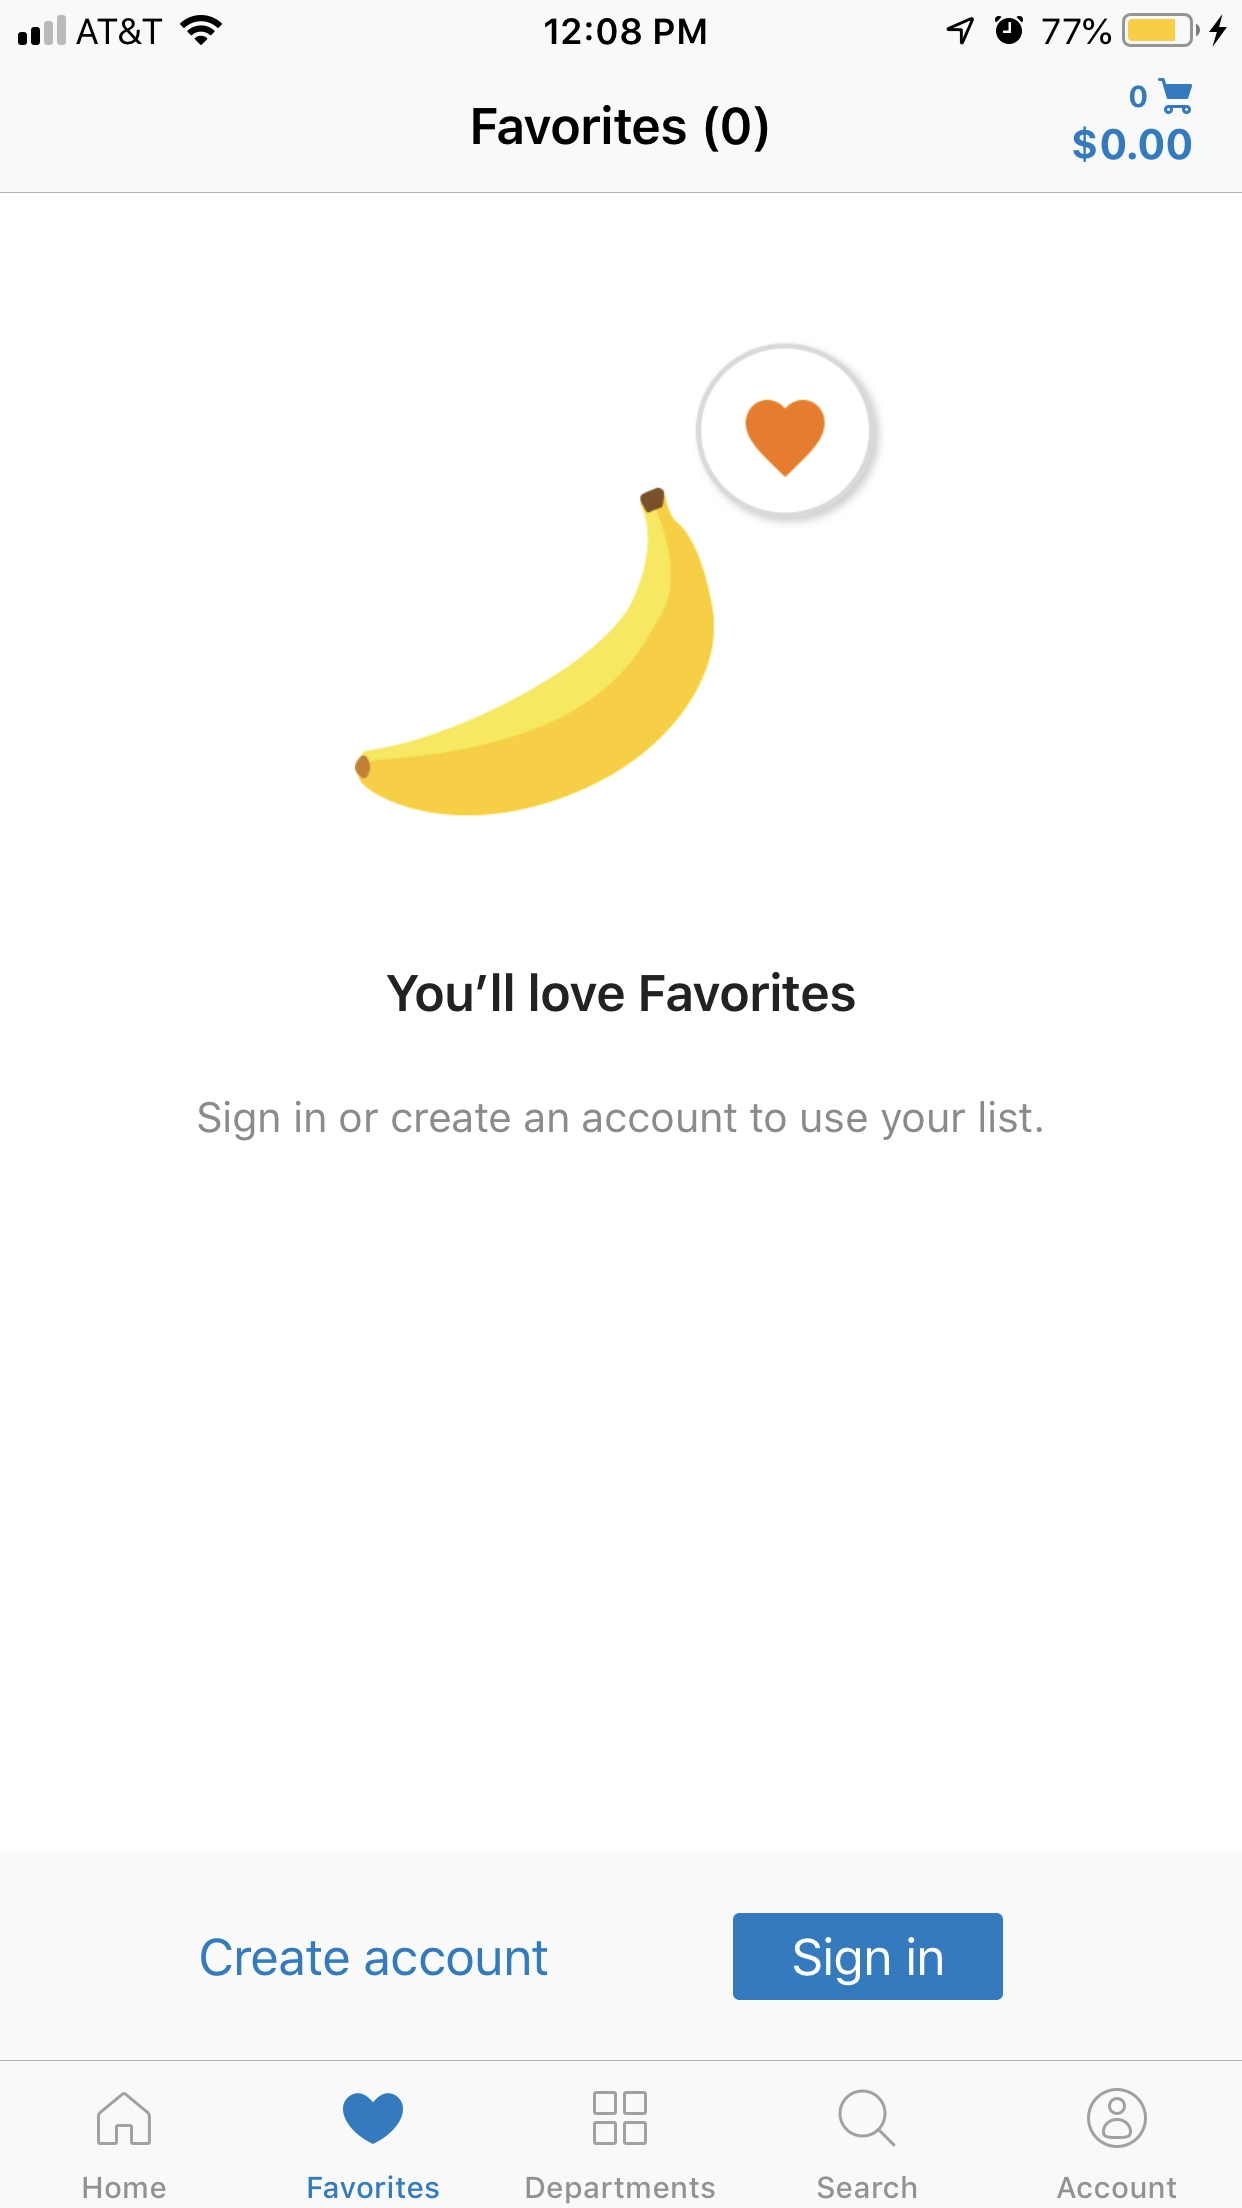Icon: (1086, 2087, 1148, 2149), (839, 2088, 898, 2147), (591, 2090, 648, 2146), (343, 2093, 403, 2144), (97, 2091, 153, 2146), (1157, 77, 1193, 115)
Image: (353, 341, 880, 817)
Text: (199, 1099, 1043, 1140), (387, 971, 855, 1013), (473, 105, 769, 155), (202, 1938, 549, 1977), (526, 2176, 716, 2205), (1072, 126, 1192, 164), (308, 2175, 440, 2199), (1055, 2176, 1177, 2199), (817, 2175, 917, 2200), (83, 2176, 168, 2199), (1128, 86, 1148, 111)
TextButton: (732, 1912, 1004, 2002)
UpperTaskBar: (2, 2, 1242, 49)
